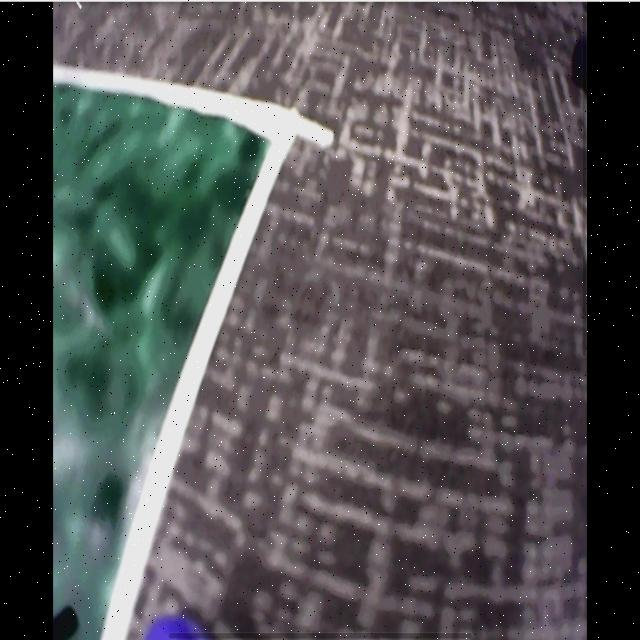ball: (146, 619, 209, 640)
